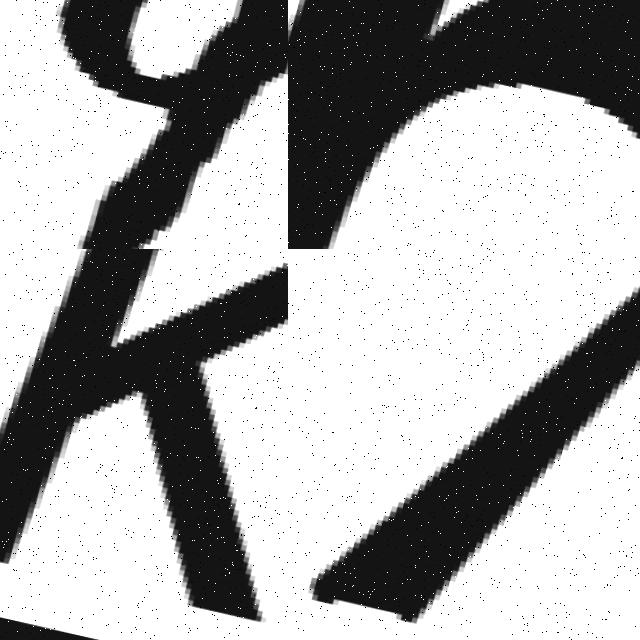7: (302, 249, 640, 640)
K: (0, 249, 288, 637)
Q: (0, 0, 288, 249)
R: (288, 0, 640, 249)
